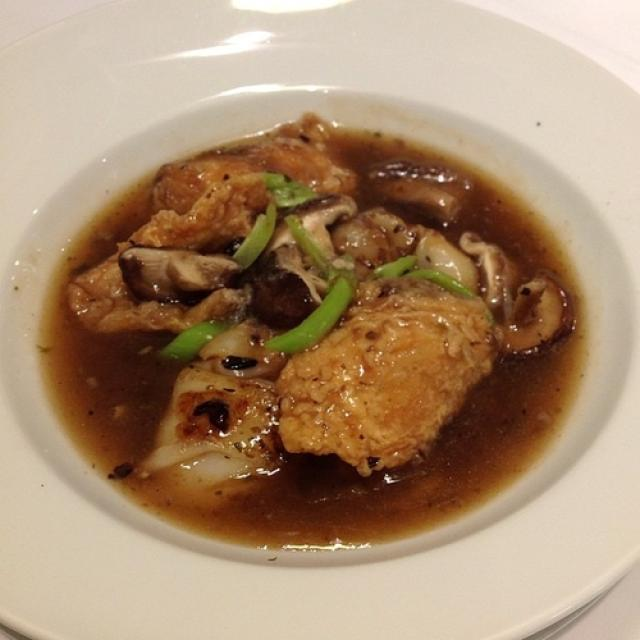面条主食: (15, 23, 626, 591)
